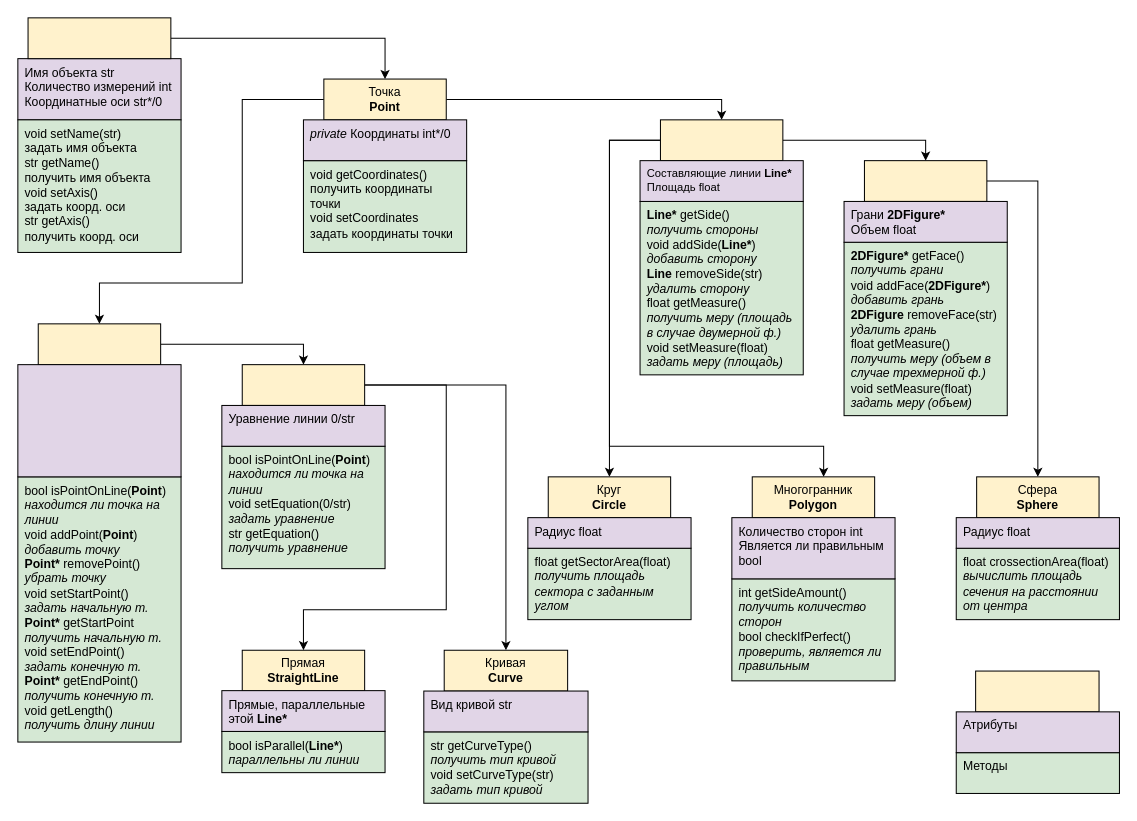
The diagram is 1137 pixels wide and 821 high, and some of its shapes have lost their labels. Each missing label, with the box of its shape:
Геометрический объект GeometricObject: (27, 17, 171, 59)
Двумерная фигура 2DFigure: (659, 119, 783, 161)
Линия Line: (37, 323, 161, 365)
Название класса: (975, 670, 1099, 712)
Неломаная SingleLine: (241, 364, 365, 405)
Принадлежащие точки Point* Принадлежащие линии Line* Начало Конец Длина int: (17, 364, 181, 477)
Трехмерная фигура 3DFigure: (863, 160, 987, 201)
